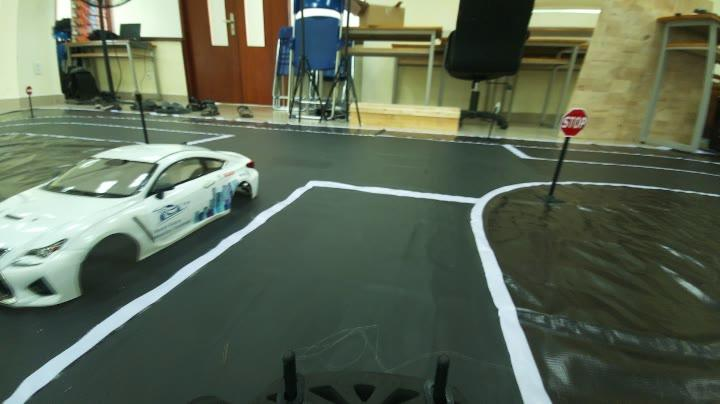car: (3, 151, 266, 313)
stop: (554, 106, 592, 143)
